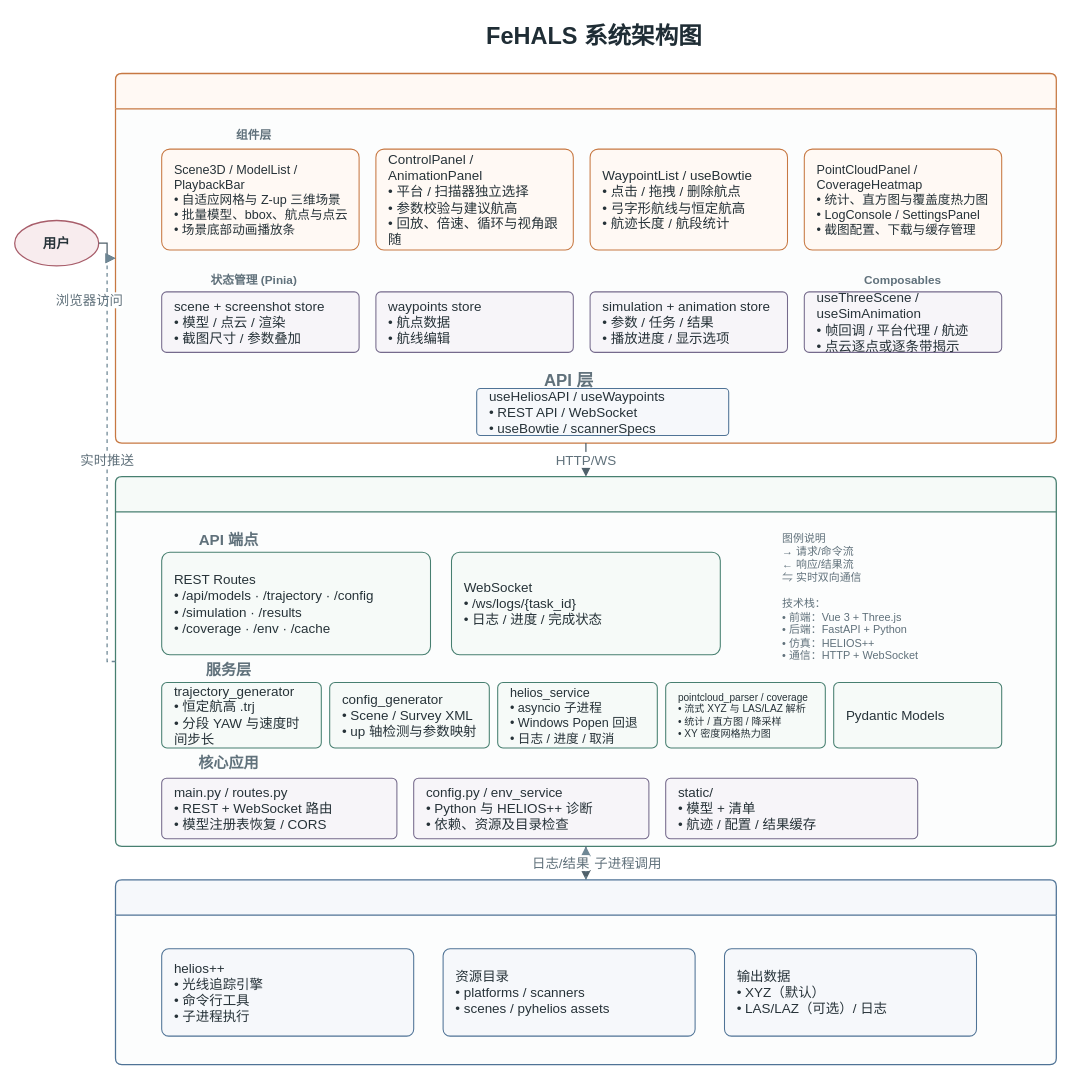
The diagram is 1072 pixels wide and 1079 high, and some of its shapes have lost their labels. Here are the shapes that lost their labels. From the top down, the box of each, then its label:
(114, 72, 1057, 443): 前端层 (Vue 3 + Three.js)
(114, 476, 1057, 847): 后端层 (FastAPI + Python)
(114, 879, 1057, 1065): 仿真引擎层 (HELIOS++)
